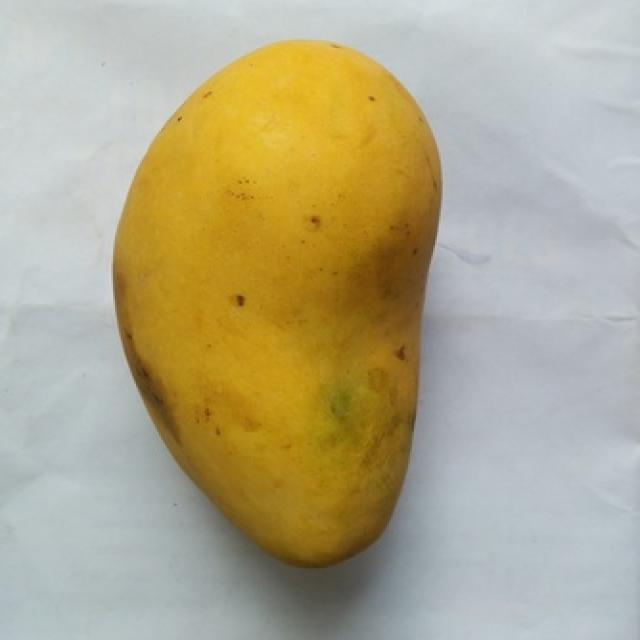Mango: (113, 40, 439, 565)
